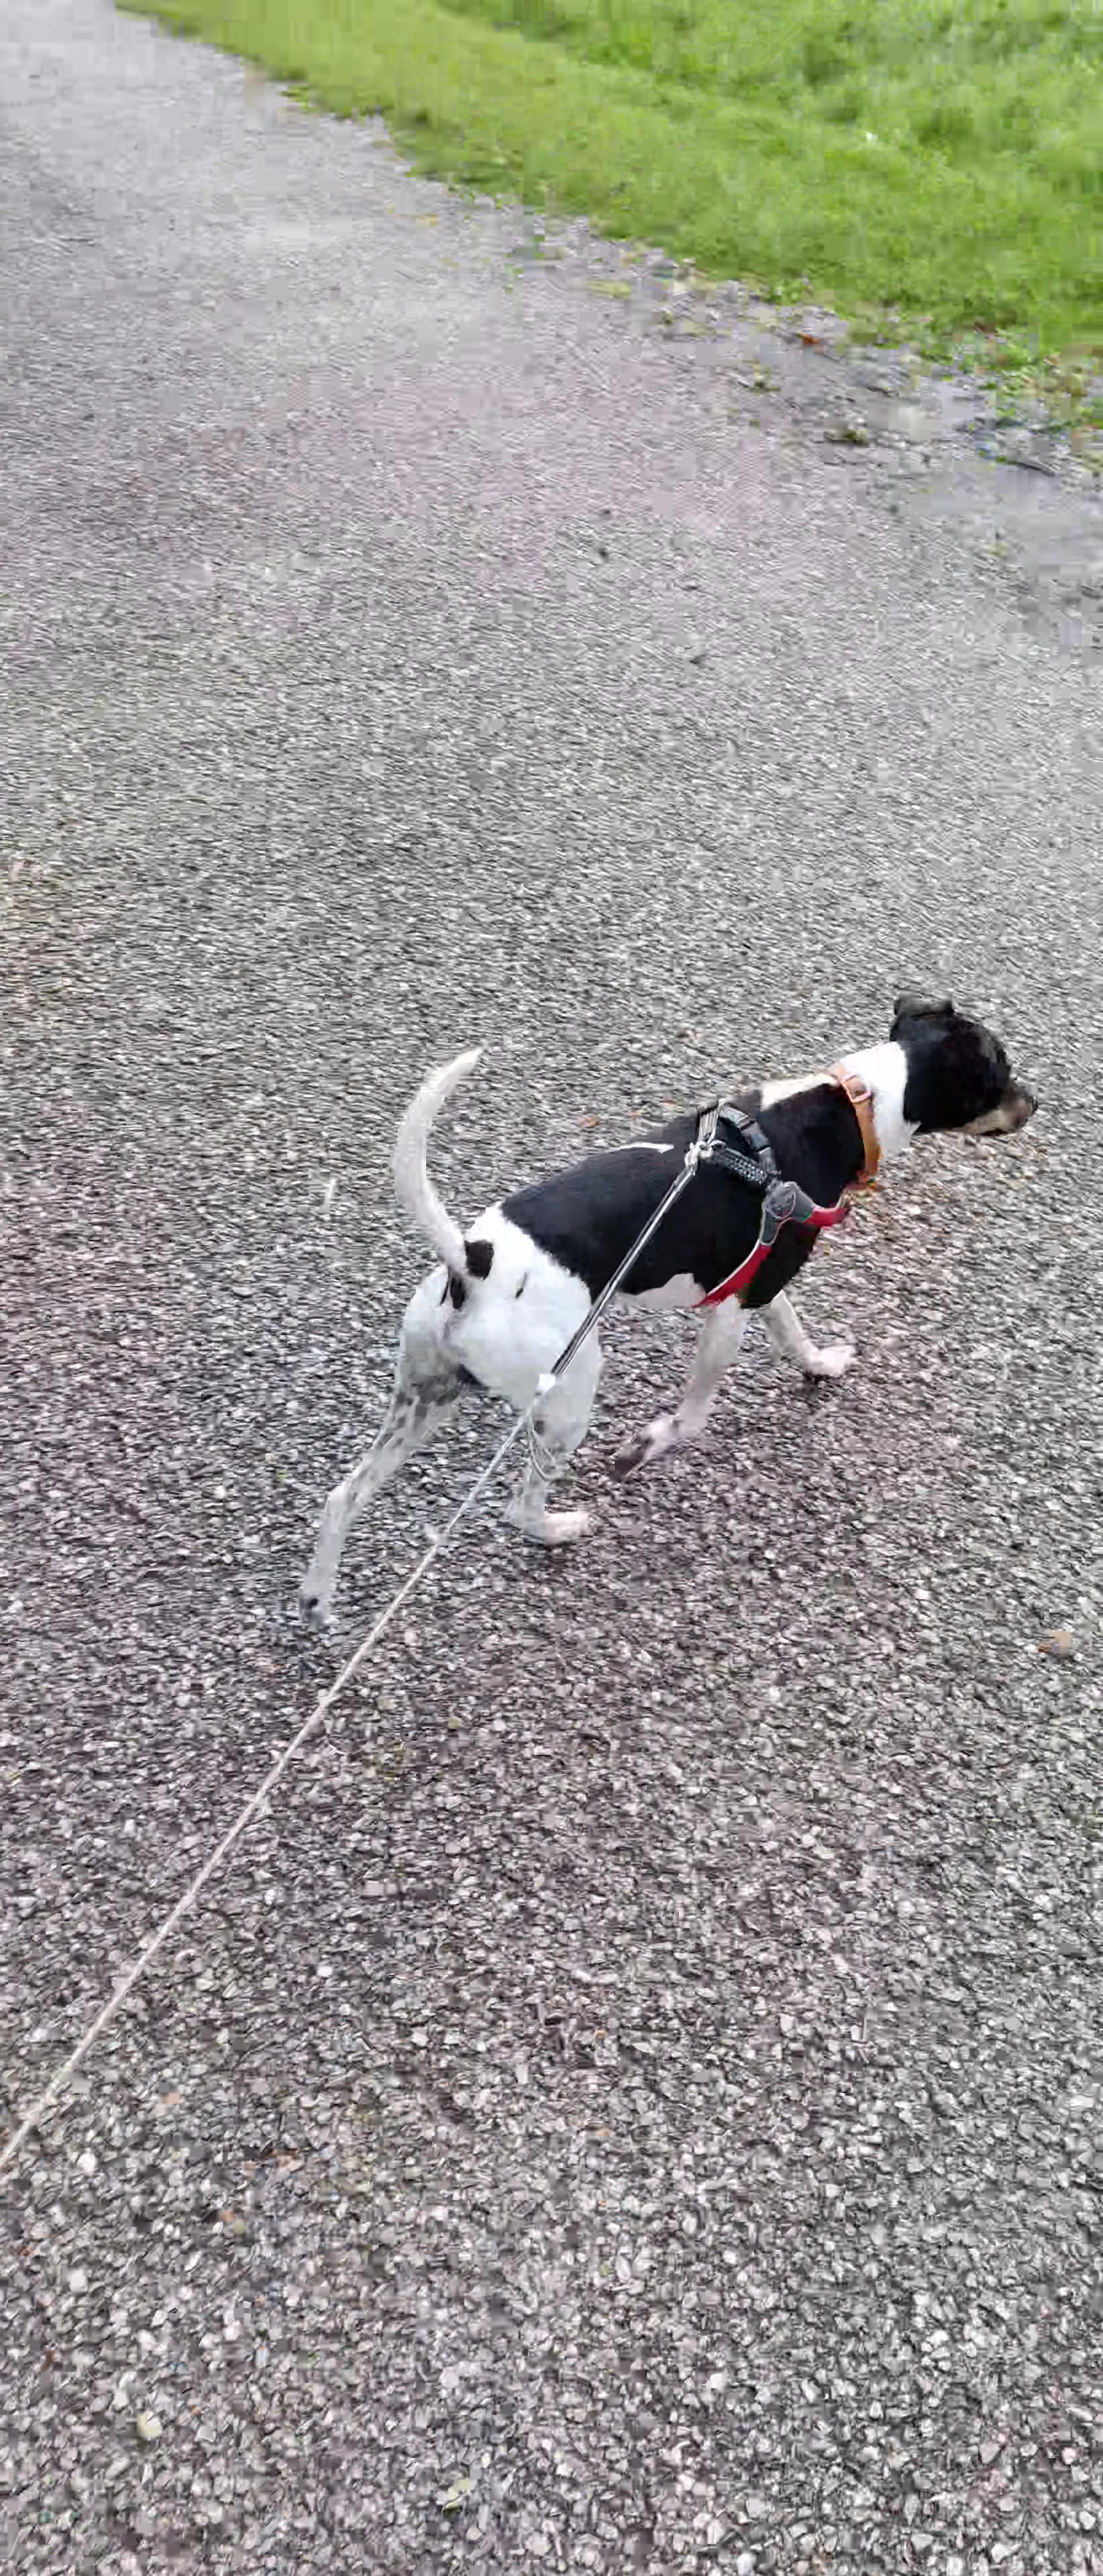Dog: (278, 992, 1041, 1623)
